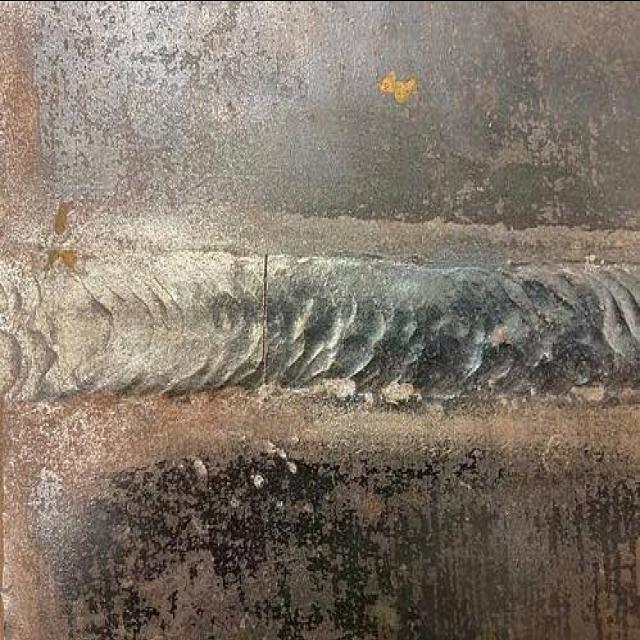defect: (261, 245, 271, 386)
